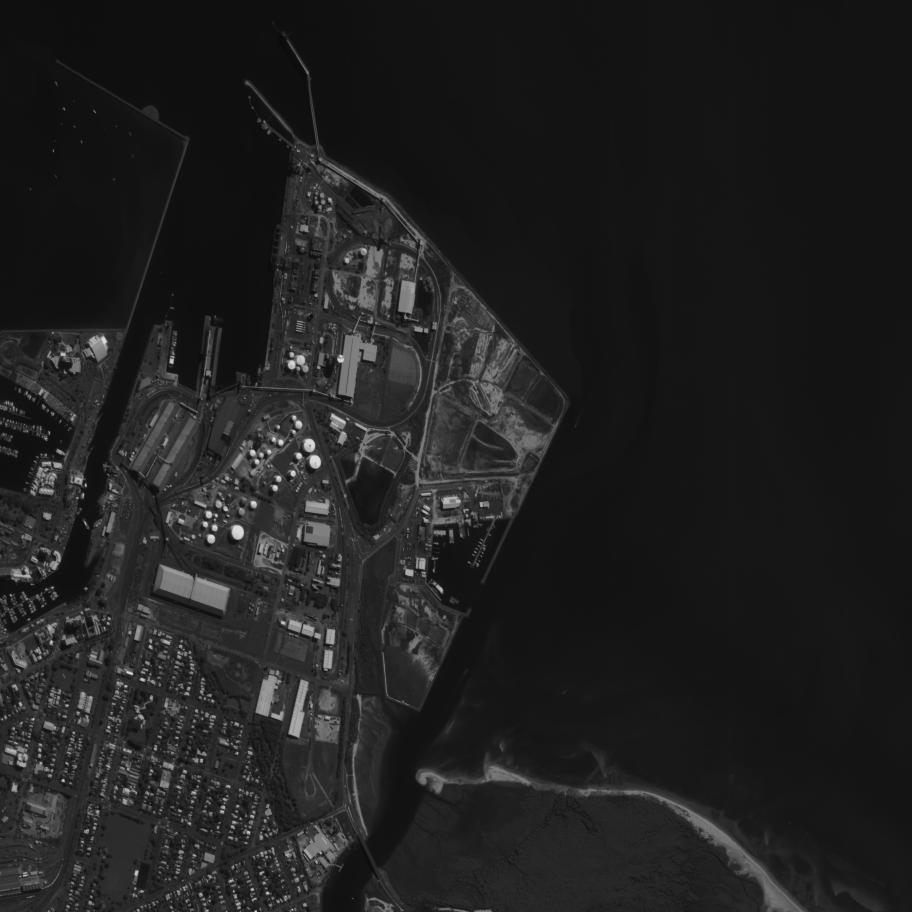ship: (165, 328, 180, 370), (80, 516, 92, 532), (256, 362, 263, 382), (431, 540, 441, 547), (466, 560, 474, 566), (472, 525, 479, 529)
storage-tank: (229, 524, 245, 540), (302, 438, 316, 453), (308, 456, 322, 470), (205, 534, 216, 545), (296, 355, 306, 366), (336, 353, 345, 364), (203, 510, 213, 519), (239, 497, 249, 506), (249, 500, 258, 510), (287, 360, 296, 370), (359, 247, 369, 256), (214, 500, 223, 509), (288, 469, 297, 478), (223, 503, 231, 513), (269, 484, 279, 492), (210, 524, 219, 532), (200, 521, 209, 529), (293, 452, 302, 460), (273, 475, 282, 483), (248, 449, 257, 457), (295, 421, 303, 430), (238, 508, 246, 516), (253, 458, 261, 466), (302, 365, 309, 373), (307, 313, 315, 320), (269, 436, 277, 443), (277, 439, 284, 447), (257, 452, 264, 459), (265, 449, 272, 456), (428, 283, 435, 290), (289, 429, 297, 435), (344, 258, 351, 264), (426, 277, 432, 284), (191, 534, 197, 540), (320, 199, 326, 205), (319, 192, 325, 198), (289, 352, 295, 358), (275, 425, 281, 431), (213, 513, 219, 518), (291, 416, 297, 421), (296, 366, 301, 372), (318, 205, 322, 210), (315, 200, 319, 205), (251, 603, 255, 608), (315, 192, 319, 196), (250, 608, 254, 612), (213, 519, 217, 522), (315, 196, 318, 200)
